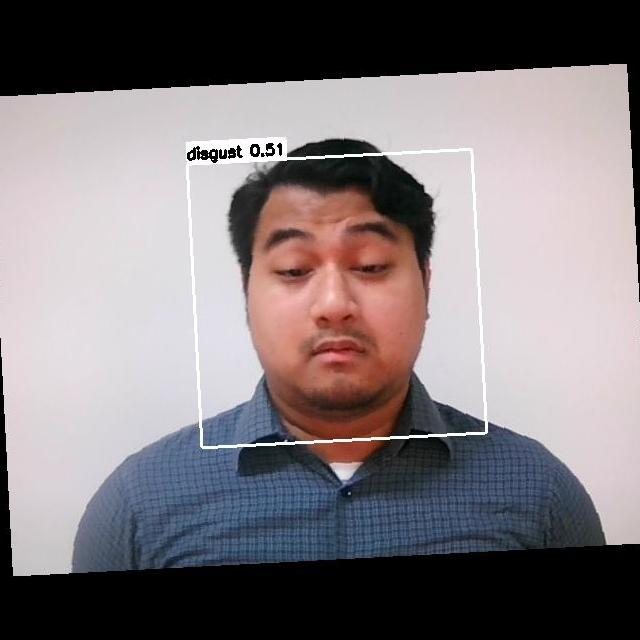Fear: (234, 197, 442, 403)
